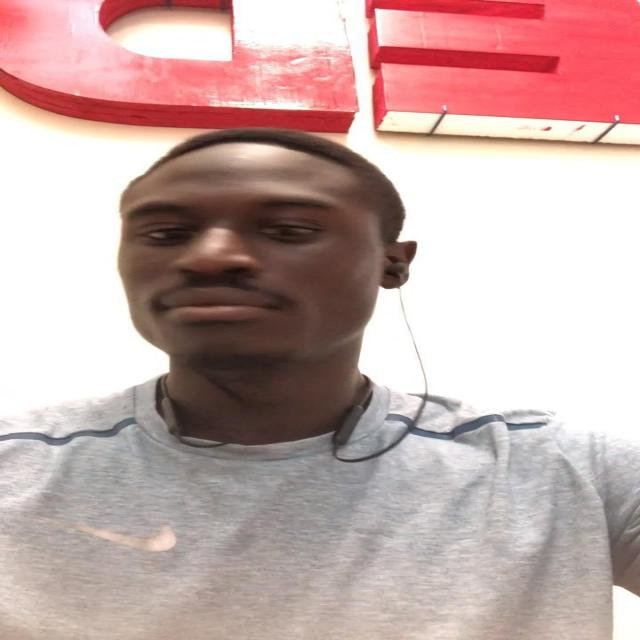face: (112, 149, 382, 371)
